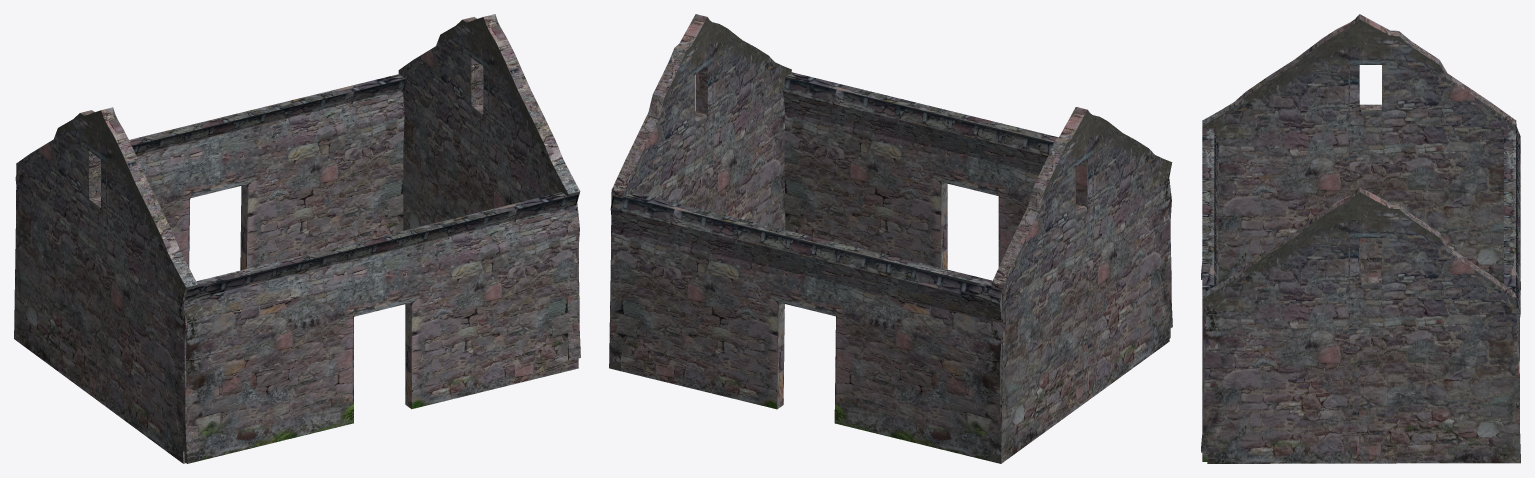
3 renders of one model, left to right at view 1: azimuth 30°, elevation 25°; view 2: azimuth 150°, elevation 25°; view 3: azimuth 270°, elevation 25°, orthographic. The views are drawn at different scales.
Parts seen in each view (by area): view 1: gable.002_0; view 2: gable.002_0; view 3: gable.002_0.
Part boxes in pixels (left/top/right/bottom): gable.002_0: left=14, top=14, right=580, bottom=463; gable.002_0: left=609, top=14, right=1172, bottom=463; gable.002_0: left=1201, top=14, right=1520, bottom=463.
Bounding box in the file's own units: 2.35 × 1.67 × 1.78.
Materials: 2 (2 with a texture image).
